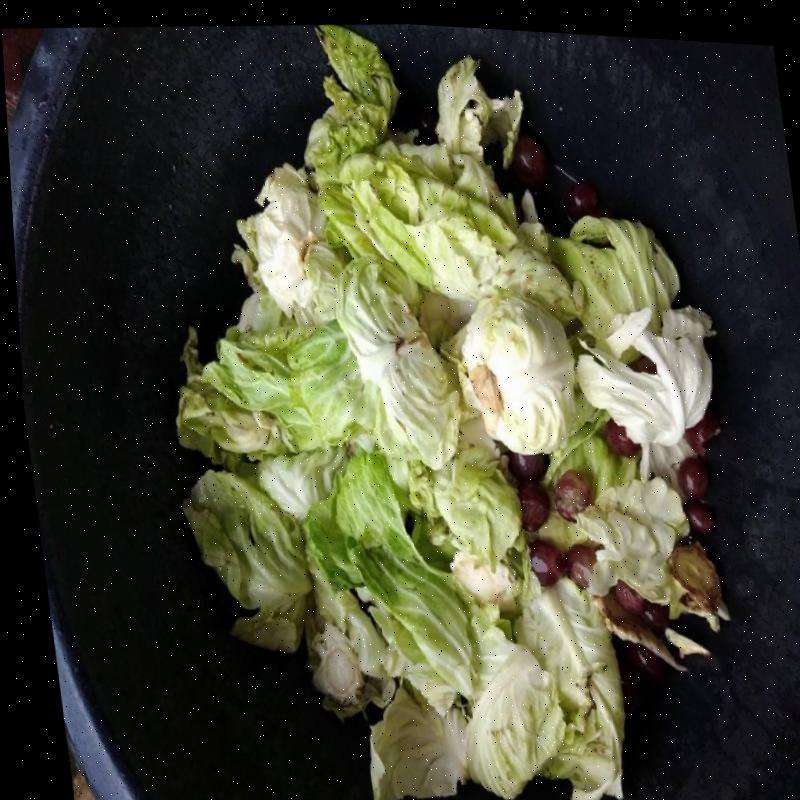fruit peels: (554, 467, 591, 521), (516, 477, 549, 531), (526, 540, 562, 585), (506, 448, 549, 480), (607, 417, 640, 456), (677, 458, 707, 497), (566, 181, 596, 219), (516, 136, 543, 175), (684, 500, 712, 530)
vegetable peels: (305, 454, 471, 716), (336, 258, 459, 469), (577, 304, 716, 481), (514, 579, 625, 800), (182, 466, 312, 650), (459, 586, 562, 798), (458, 290, 576, 453), (549, 214, 680, 338), (580, 477, 687, 600), (372, 685, 468, 800)
